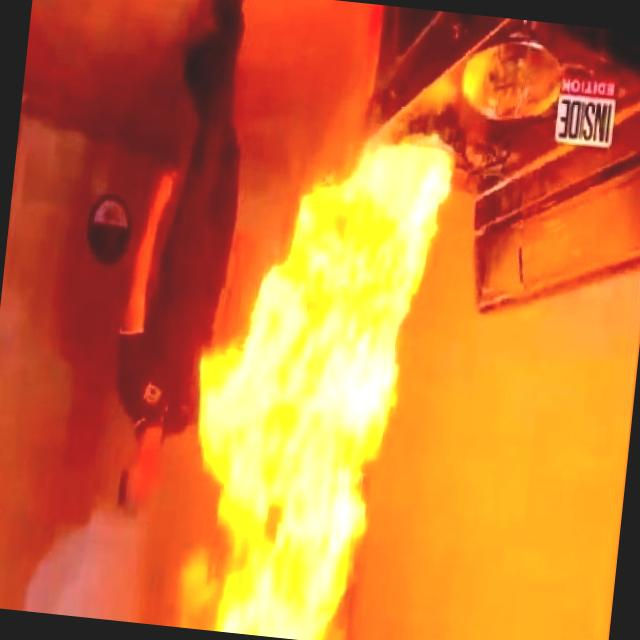fire: (142, 102, 499, 640)
